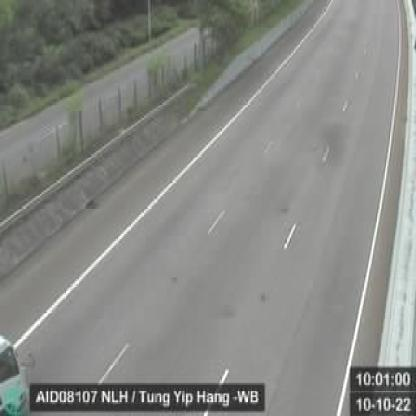Bus: (0, 332, 32, 416)
